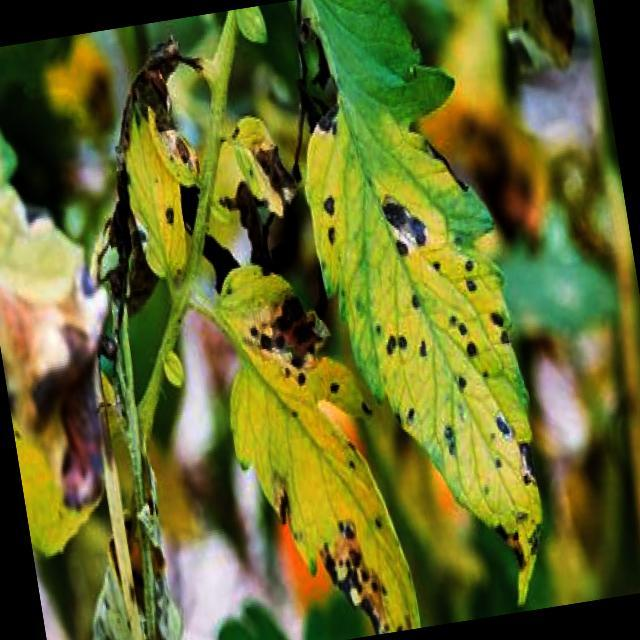Tomato bacterial spot leaf: (272, 0, 564, 636), (197, 252, 414, 640), (102, 62, 202, 285)
